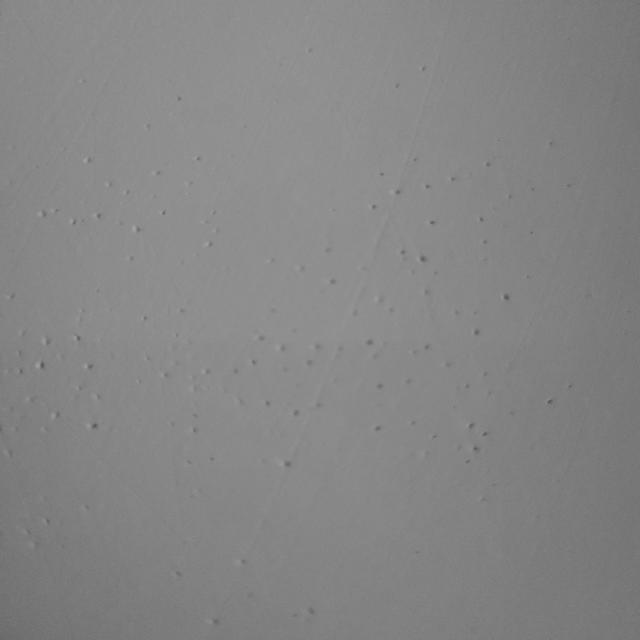rough and patchy surface: (1, 144, 582, 483), (151, 540, 327, 634), (17, 499, 88, 569), (134, 70, 208, 126), (382, 52, 458, 102), (278, 33, 341, 73)
